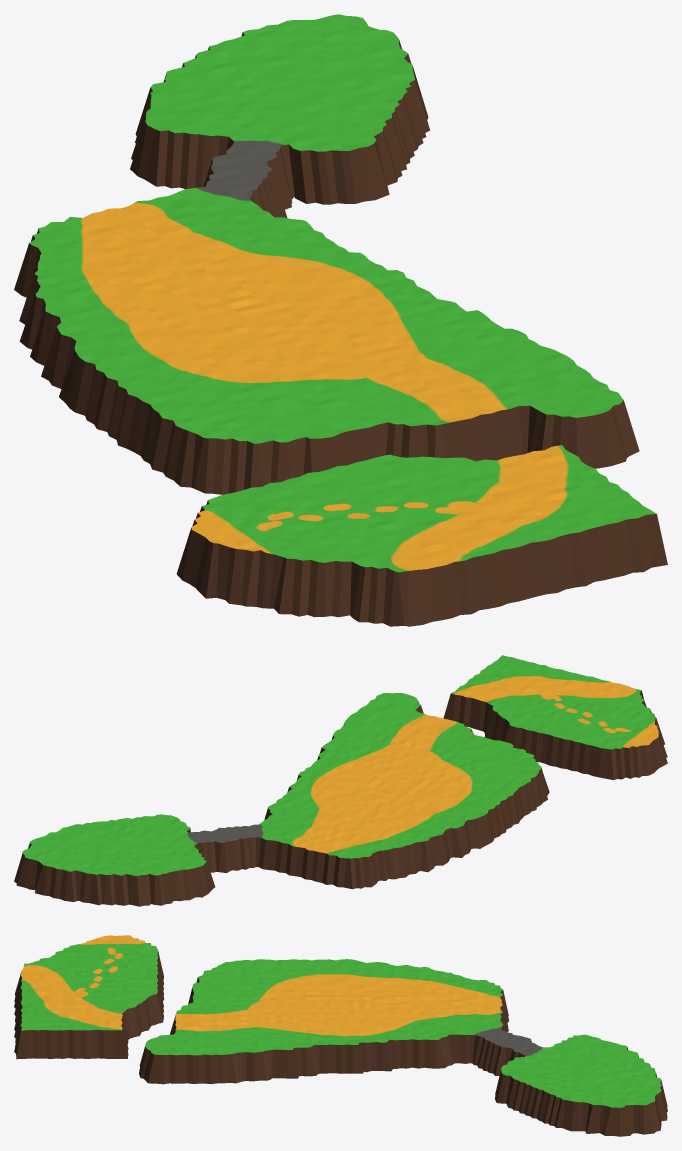
The model's file is SectionTwoNew.FBX.
3 views of the same model, one above another, from view 1: azimuth 30°, elevation 25°; view 2: azimuth 150°, elevation 25°; view 3: azimuth 270°, elevation 25° (orthographic). The views are drawn at different scales.
Parts seen in each view (by area): view 1: SectionTwo.001; view 2: SectionTwo.001; view 3: SectionTwo.001.
Boxes of the visible parts, <box> form: SectionTwo.001: <box>14,14,667,626</box>; SectionTwo.001: <box>14,655,667,906</box>; SectionTwo.001: <box>14,935,667,1136</box>.
Bounding box in the file's own units: 5561 × 403 × 8638.
Materials: 1 (1 with a texture image).
